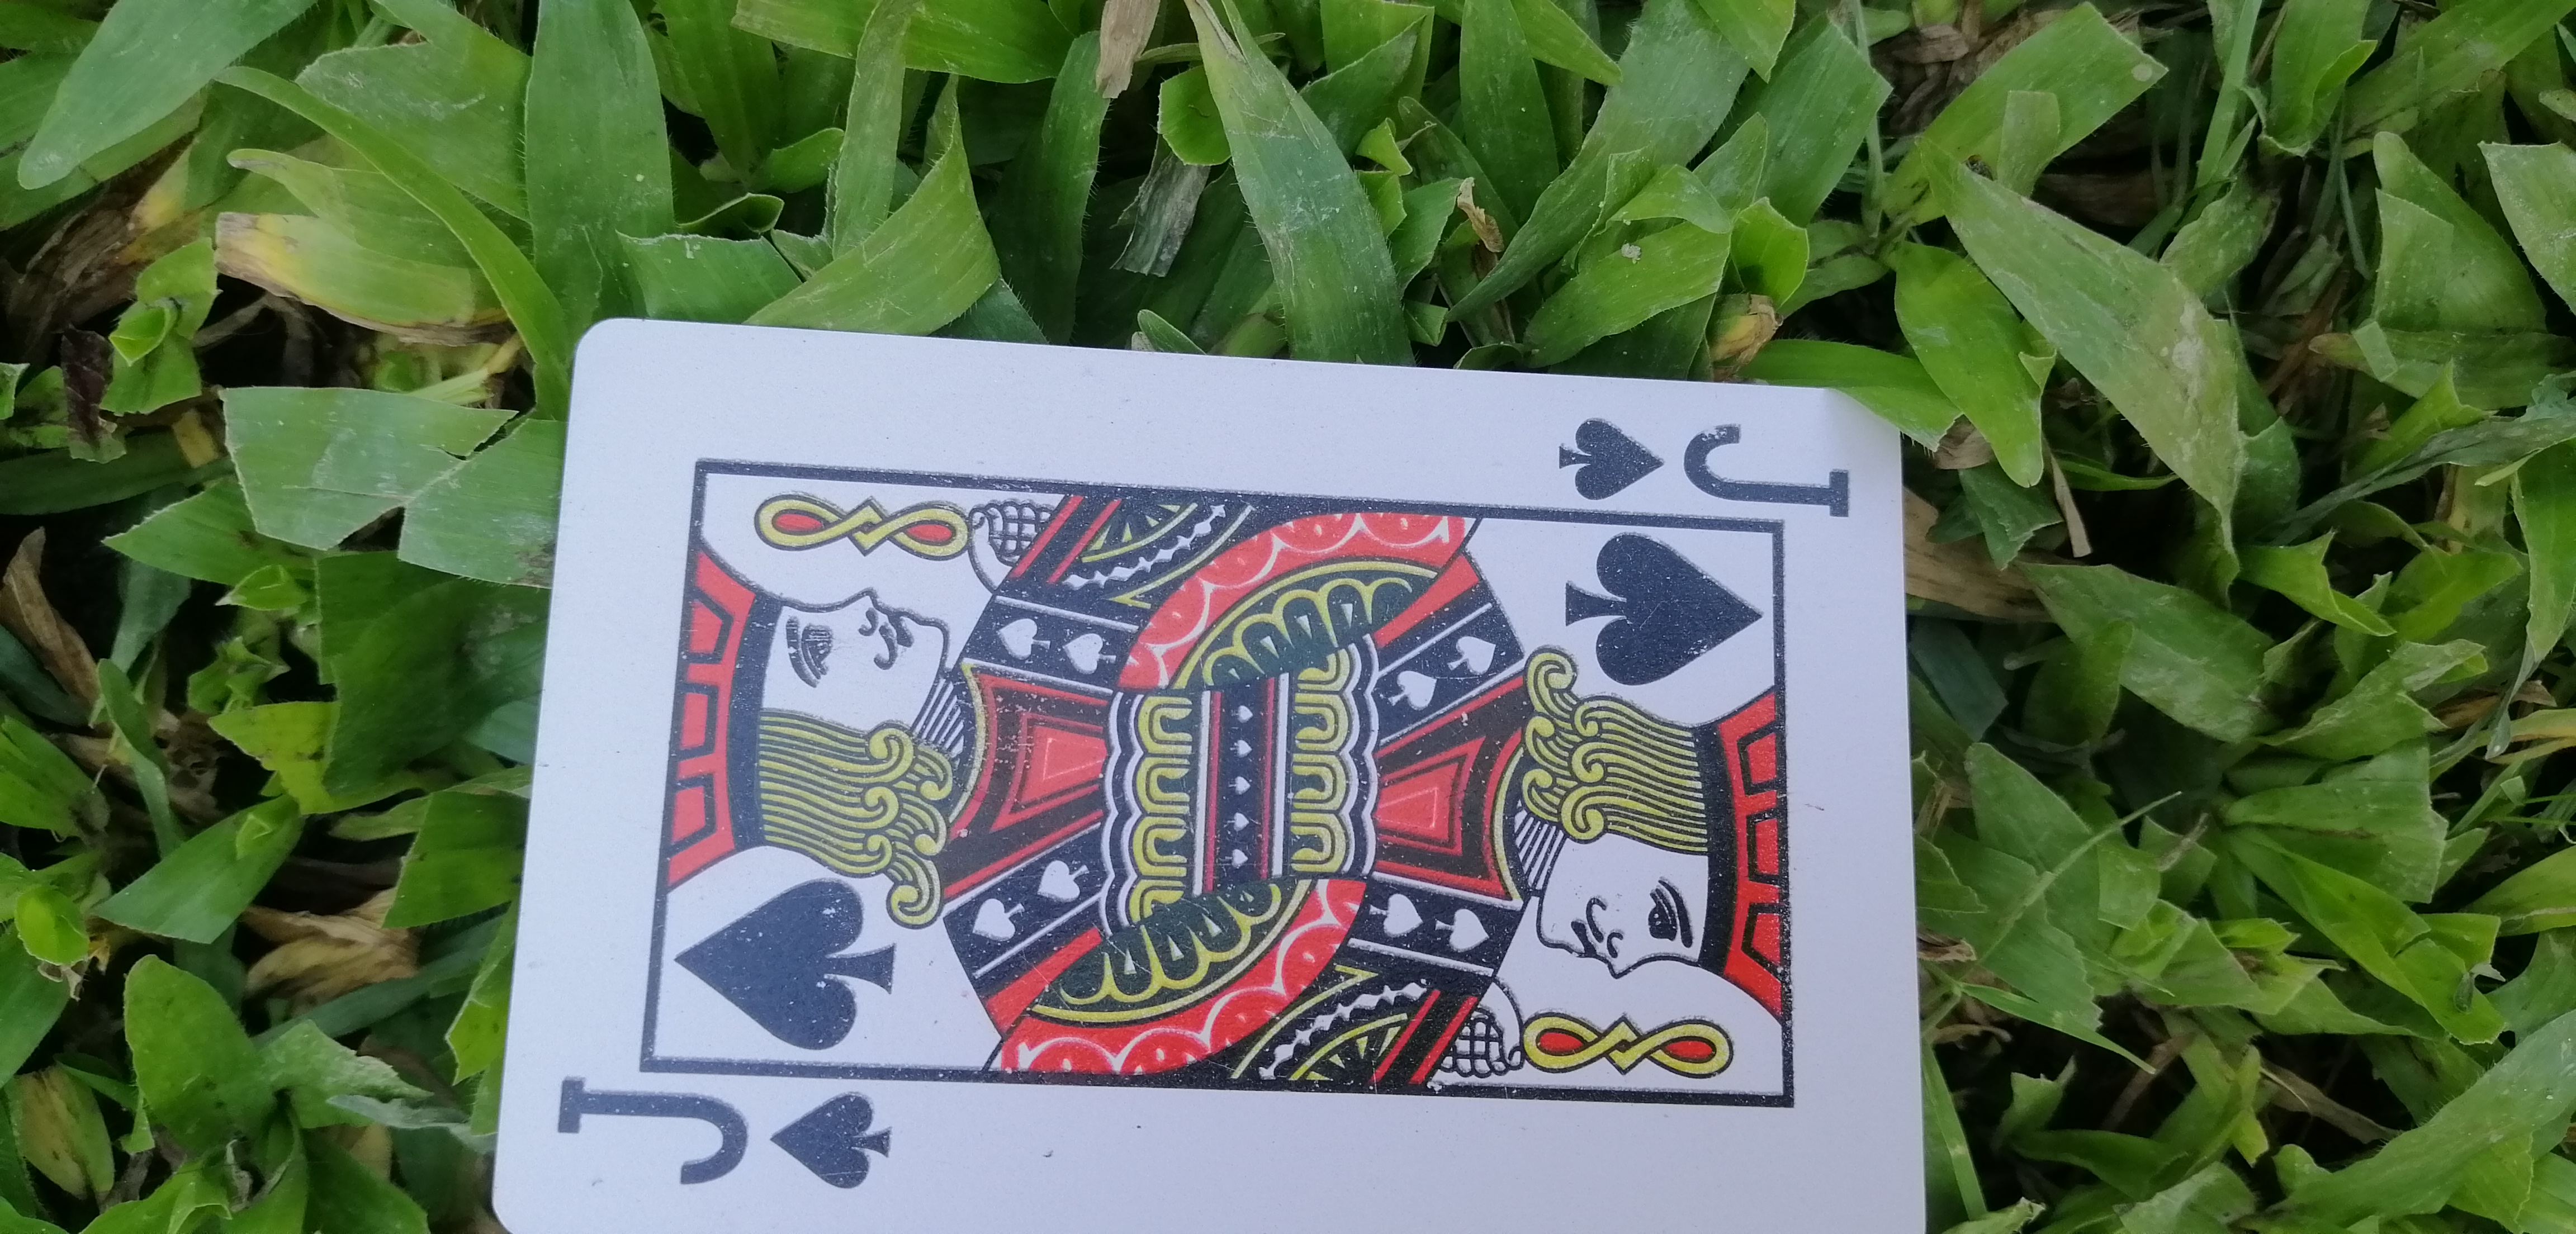jack: (498, 309, 1921, 1229)
